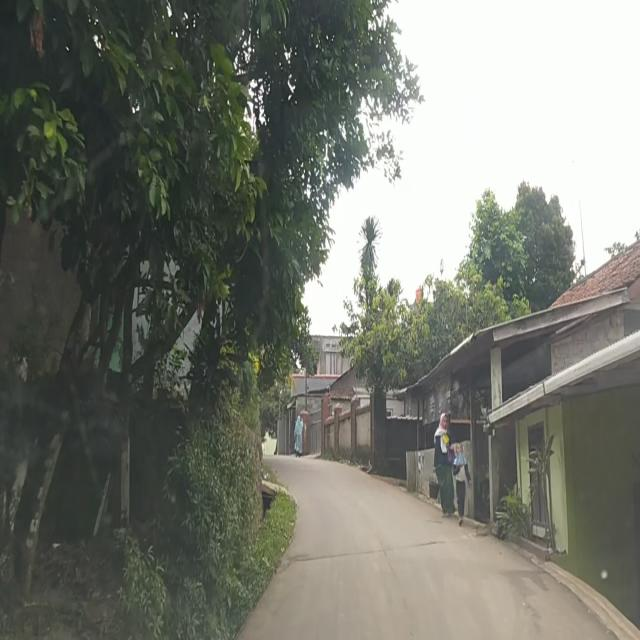Sewer Cover: (290, 537, 458, 566)
